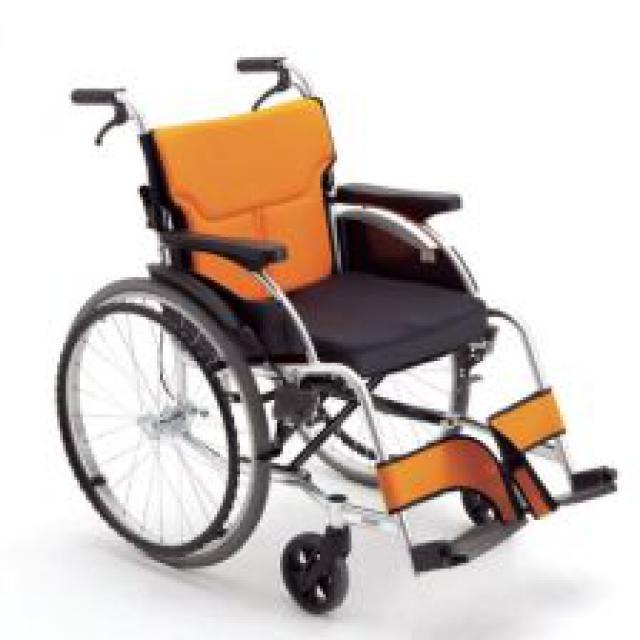wheelchair: (51, 40, 623, 629)
